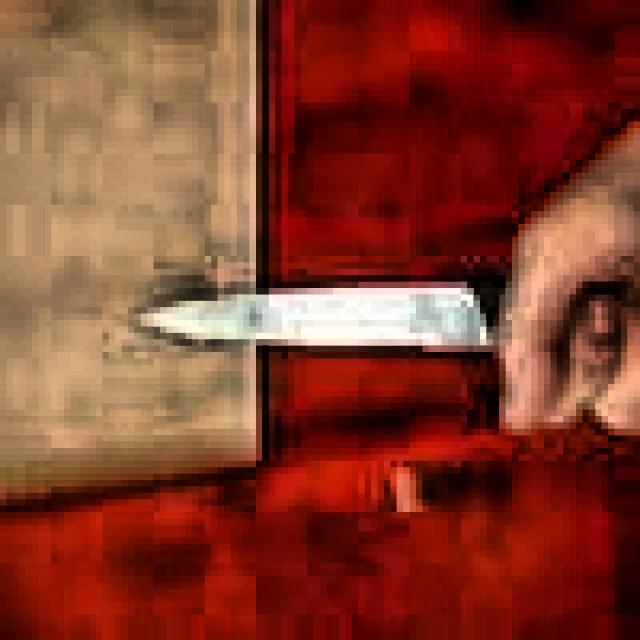knife: (146, 282, 514, 358)
